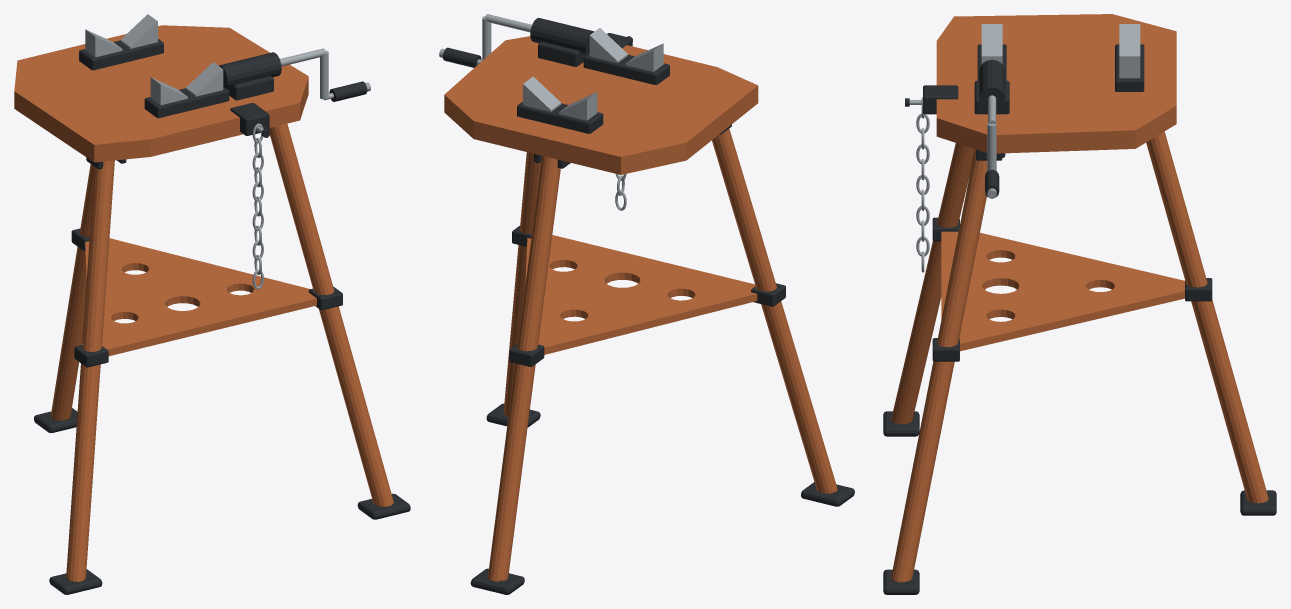
File: A-NEW-20261026-TRIPOD-PIPE-VISE-001_LOD1_R3.glb
The picture shows the model from 3 angles, left to right: view 1: azimuth 30°, elevation 25°; view 2: azimuth 150°, elevation 25°; view 3: azimuth 270°, elevation 25°; orthographic projection. The views are drawn at different scales.
Visible parts, largest first — view 1: irregular work table, triangular open tool tray, hollow tubular leg 0, hollow tubular leg 1, hollow tubular leg 2, clamp crank bearing, V jaw pedestal, V jaw pedestal.001, raised V pipe jaw.001, chain anchor table bracket, raised V pipe jaw.003, flat leg ground foot 1 (+6 smaller); view 2: irregular work table, triangular open tool tray, hollow tubular leg 2, hollow tubular leg 0, hollow tubular leg 1, clamp crank bearing, V jaw pedestal.001, V jaw pedestal, raised V pipe jaw.001, raised V pipe jaw.003, crank housing table mount, flat leg ground foot 2 (+4 smaller); view 3: irregular work table, triangular open tool tray, hollow tubular leg 1, hollow tubular leg 2, hollow tubular leg 0, clamp crank bearing, V jaw pedestal.001, chain anchor table bracket, raised V pipe jaw, raised V pipe jaw.002, flat leg ground foot 1, flat leg ground foot 0 (+1 smaller).
Part boxes in pixels (box(x1,y1,x2,y2)): irregular work table: box(14, 25, 308, 162); triangular open tool tray: box(85, 238, 316, 356); hollow tubular leg 0: box(66, 160, 114, 581); hollow tubular leg 1: box(269, 123, 393, 506); hollow tubular leg 2: box(50, 164, 94, 420); clamp crank bearing: box(219, 52, 281, 88); V jaw pedestal: box(144, 87, 229, 118); V jaw pedestal.001: box(79, 39, 163, 70); raised V pipe jaw.001: box(185, 62, 223, 96); chain anchor table bracket: box(230, 103, 269, 135); raised V pipe jaw.003: box(120, 14, 157, 48); flat leg ground foot 1: box(357, 493, 410, 519); irregular work table: box(444, 36, 758, 174); triangular open tool tray: box(525, 235, 757, 354); hollow tubular leg 2: box(488, 156, 560, 581); hollow tubular leg 0: box(712, 129, 837, 493); hollow tubular leg 1: box(503, 152, 540, 416); clamp crank bearing: box(530, 18, 594, 54); V jaw pedestal.001: box(517, 101, 603, 133); V jaw pedestal: box(583, 53, 669, 84); raised V pipe jaw.001: box(589, 28, 627, 63); raised V pipe jaw.003: box(523, 76, 561, 111); crank housing table mount: box(538, 42, 585, 66); flat leg ground foot 2: box(470, 568, 524, 594); irregular work table: box(936, 14, 1176, 153); triangular open tool tray: box(941, 231, 1184, 351); hollow tubular leg 1: box(891, 149, 987, 582); hollow tubular leg 2: box(1146, 131, 1268, 503); hollow tubular leg 0: box(891, 143, 974, 424); clamp crank bearing: box(979, 59, 1004, 109); V jaw pedestal.001: box(1115, 44, 1144, 91); chain anchor table bracket: box(923, 85, 958, 114); raised V pipe jaw: box(981, 24, 1002, 56); raised V pipe jaw.002: box(1119, 24, 1140, 56); flat leg ground foot 1: box(883, 569, 919, 594); flat leg ground foot 0: box(883, 411, 919, 436).
Bounding box in the file's own units: 0.7375 × 0.88 × 0.672.
